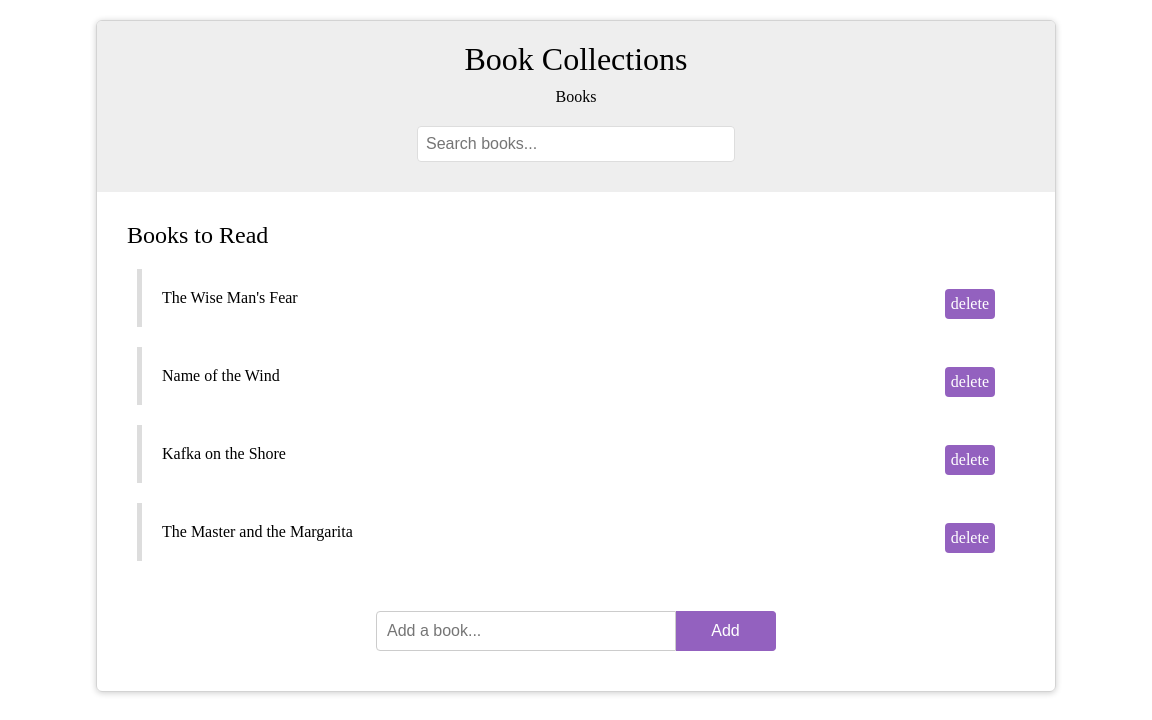
Test: that I can delete a book
Click the text "delete" in the row of "The Wise Man's Fear" at point(970, 304), box [945,289,995,319]
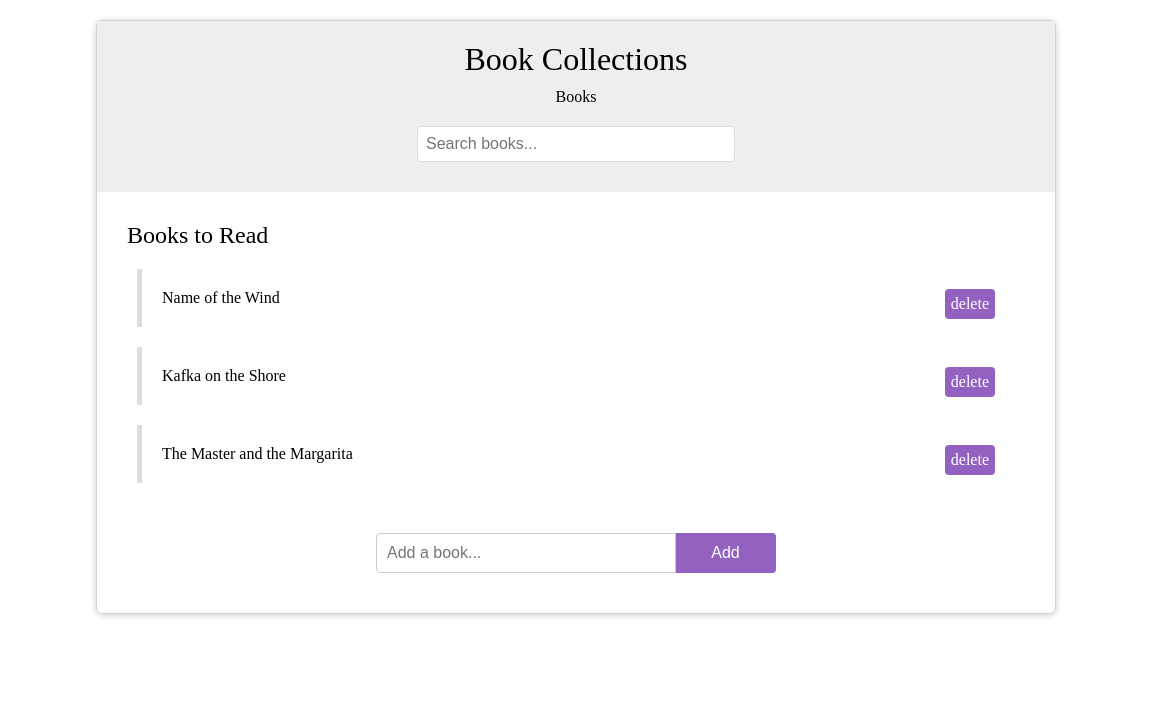
Result: the number of list items is 3 at [137,269,1015,327]; [137,347,1015,405]; [137,425,1015,483]
